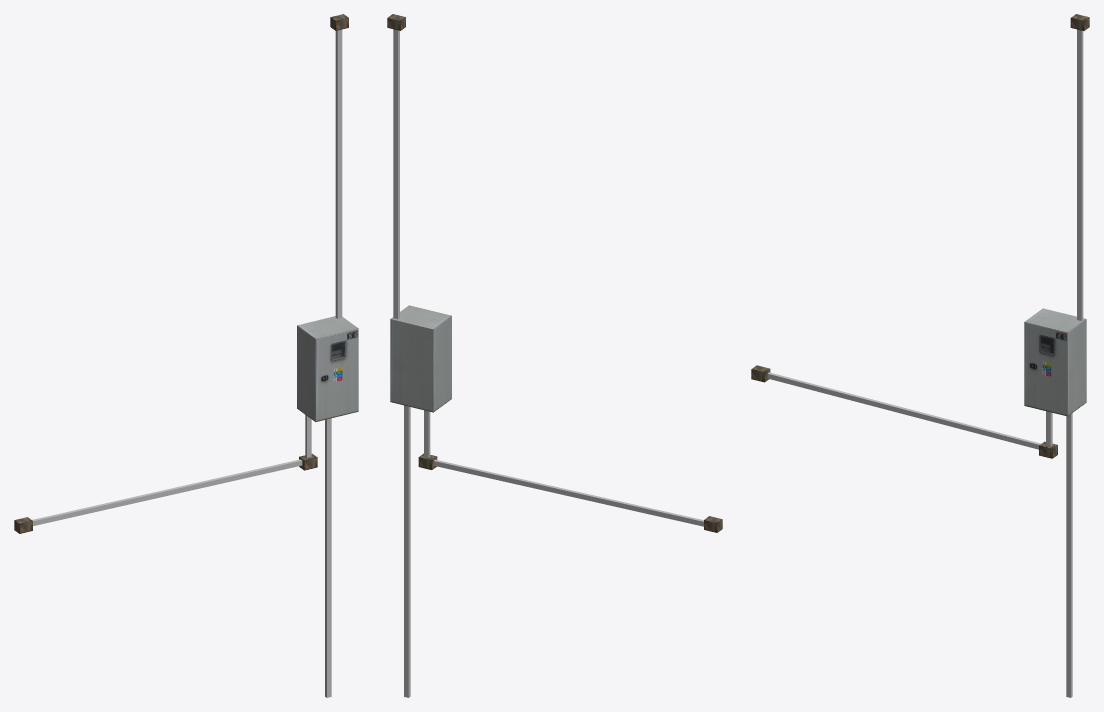
The model's file is powerbox3ms3d.fbx.
3 views of the same model, side by side, from view 1: azimuth 30°, elevation 25°; view 2: azimuth 150°, elevation 25°; view 3: azimuth 330°, elevation 25° (orthographic).
Visible parts, largest first — view 1: pb3front0, pb3sides0, Duplicatec0, Boxa0, Duplicateb0; view 2: pb3sides0, Boxa0, Duplicatec0, Duplicateb0; view 3: pb3front0, pb3sides0, Duplicatec0, Duplicateb0, Boxa0.
Boxes of the visible parts, box(x1,y1,x2,y2) form: pb3front0: box(315, 328, 358, 421); pb3sides0: box(297, 316, 358, 421); Duplicatec0: box(335, 29, 342, 318); Boxa0: box(325, 418, 331, 697); Duplicateb0: box(32, 459, 302, 525); pb3sides0: box(390, 305, 451, 412); Boxa0: box(404, 405, 410, 697); Duplicatec0: box(393, 29, 399, 318); Duplicateb0: box(433, 459, 703, 526); pb3front0: box(1024, 322, 1067, 416); pb3sides0: box(1025, 308, 1086, 415); Duplicatec0: box(1077, 29, 1083, 320); Duplicateb0: box(767, 372, 1041, 449); Boxa0: box(1066, 413, 1072, 697).
Bounding box in the file's own units: 3.5 × 6.85 × 0.3421.
